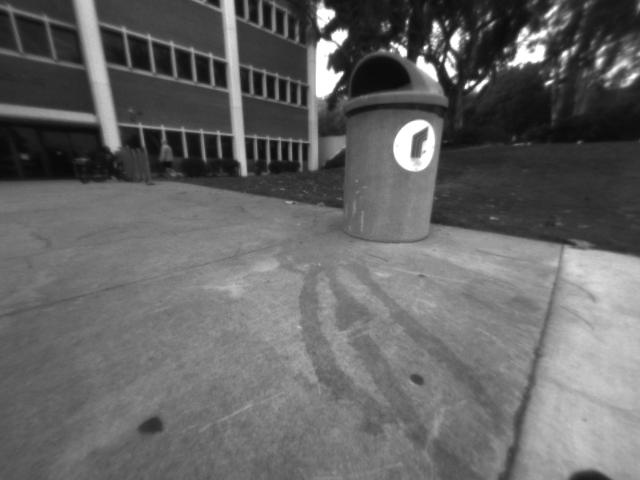trashcan: (336, 46, 448, 248)
